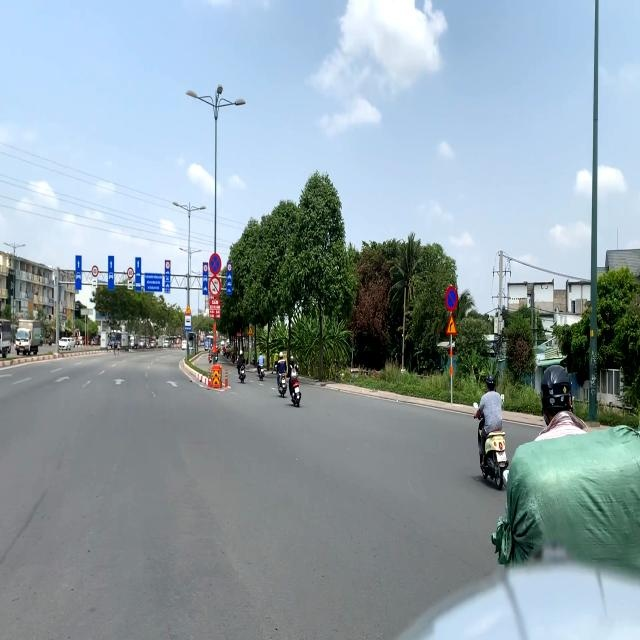bien_chi_dan: (445, 285, 458, 312), (209, 253, 222, 275), (446, 313, 458, 335), (184, 315, 192, 331), (127, 267, 134, 279), (185, 303, 192, 314), (92, 265, 98, 277), (165, 260, 170, 270), (203, 264, 208, 272), (227, 264, 232, 272)
